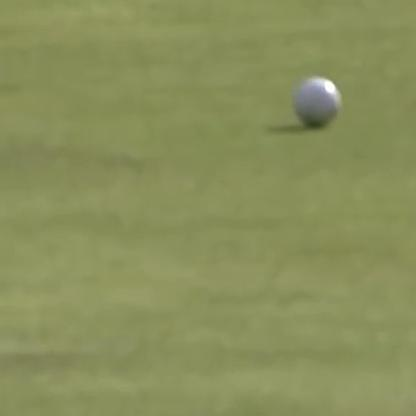golfball: (290, 73, 340, 124)
